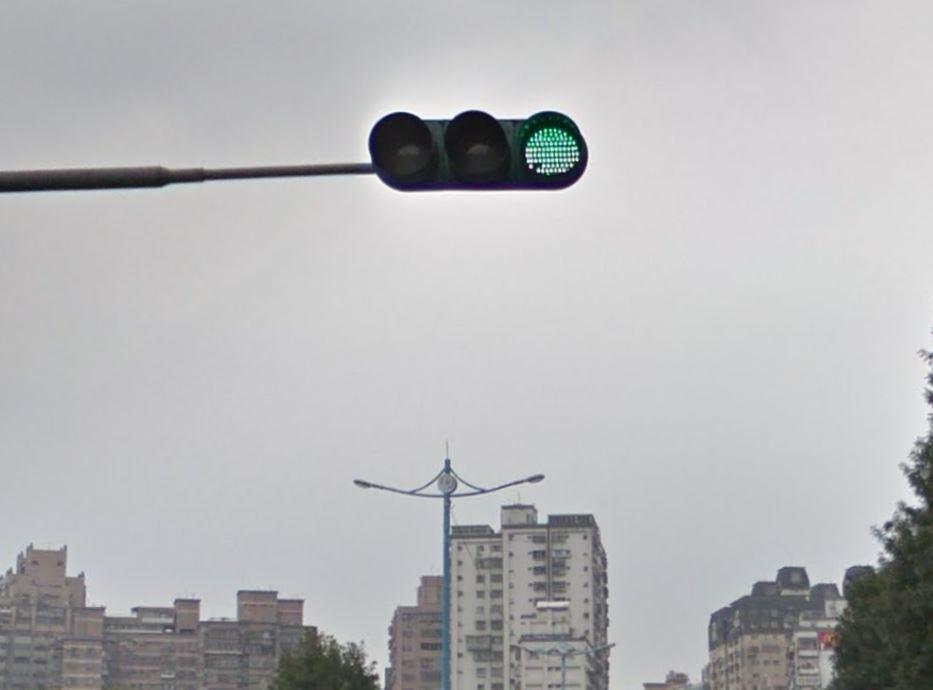green_traffic_light: (364, 103, 595, 204)
